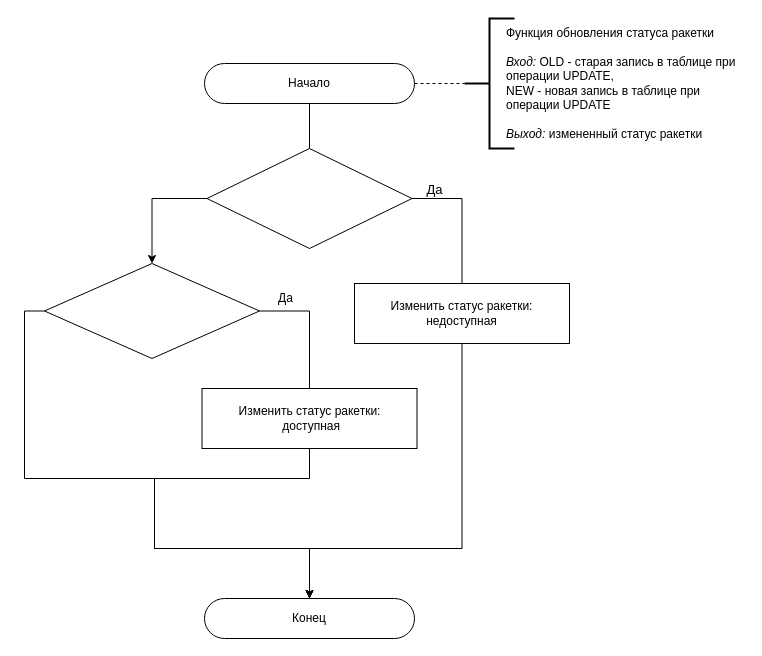
This 762x656 diagram has some shape labels left out. The shapes that lost their labels are listed below. From the top down, each one's centre as x and y in pixels, then its label:
At [309,198]: "Старое количество ракеток не равно 0, новое равно 0?".
At [152,310]: "Новое количество ракеток не равно 0, старое равно 0?".
